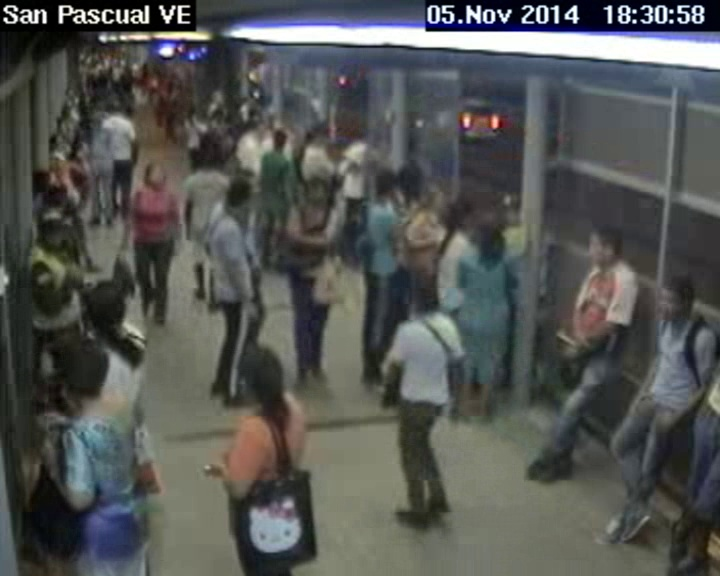person: (54, 341, 118, 414), (234, 344, 287, 416), (76, 279, 128, 333), (584, 224, 627, 270), (658, 276, 700, 321), (409, 279, 440, 322), (34, 208, 66, 247), (445, 197, 474, 239), (473, 223, 502, 262), (300, 175, 329, 208), (397, 160, 422, 197), (226, 179, 252, 212), (372, 170, 397, 201), (141, 163, 166, 190), (424, 185, 444, 214), (301, 126, 324, 149), (196, 149, 217, 171), (270, 127, 287, 150), (48, 132, 67, 152), (327, 141, 344, 160), (188, 104, 198, 124), (107, 100, 122, 113), (54, 117, 67, 131), (249, 105, 260, 119)
